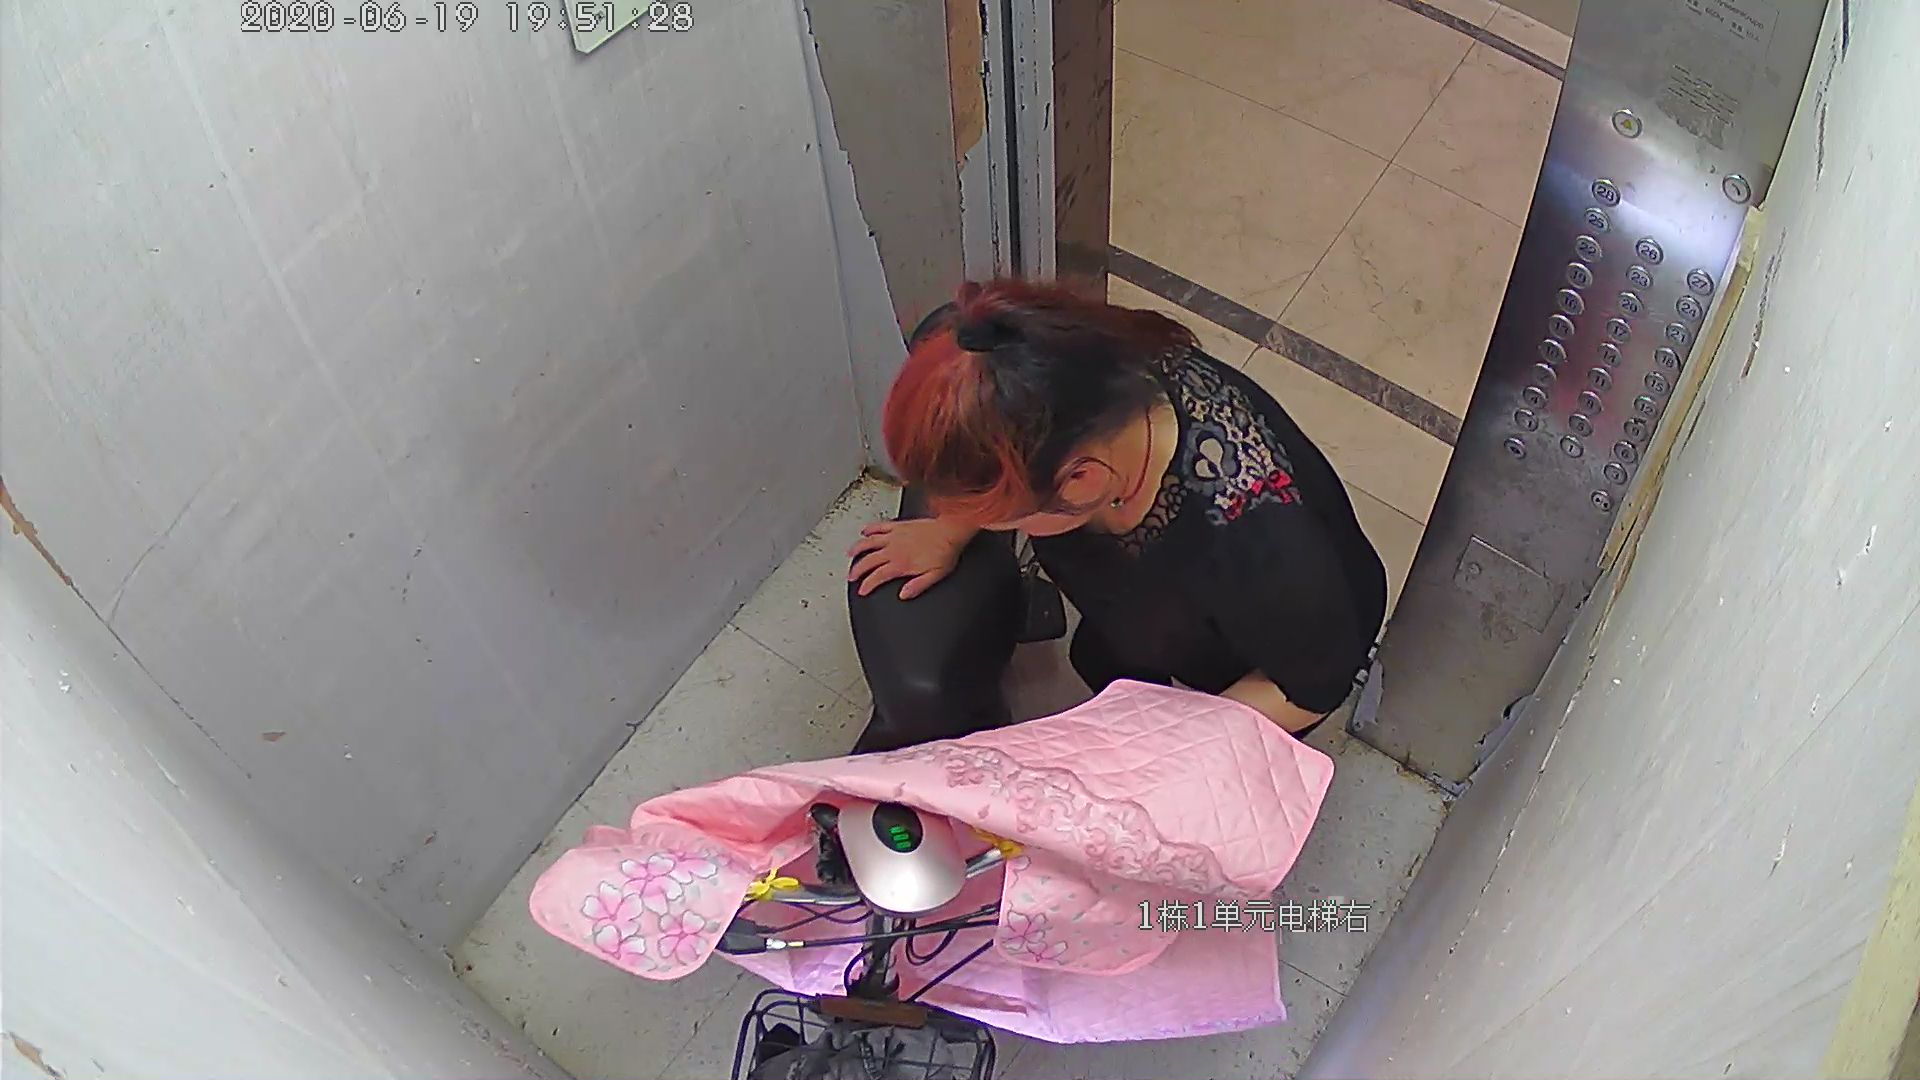Electric-bicycle: (728, 389, 1007, 1073)
